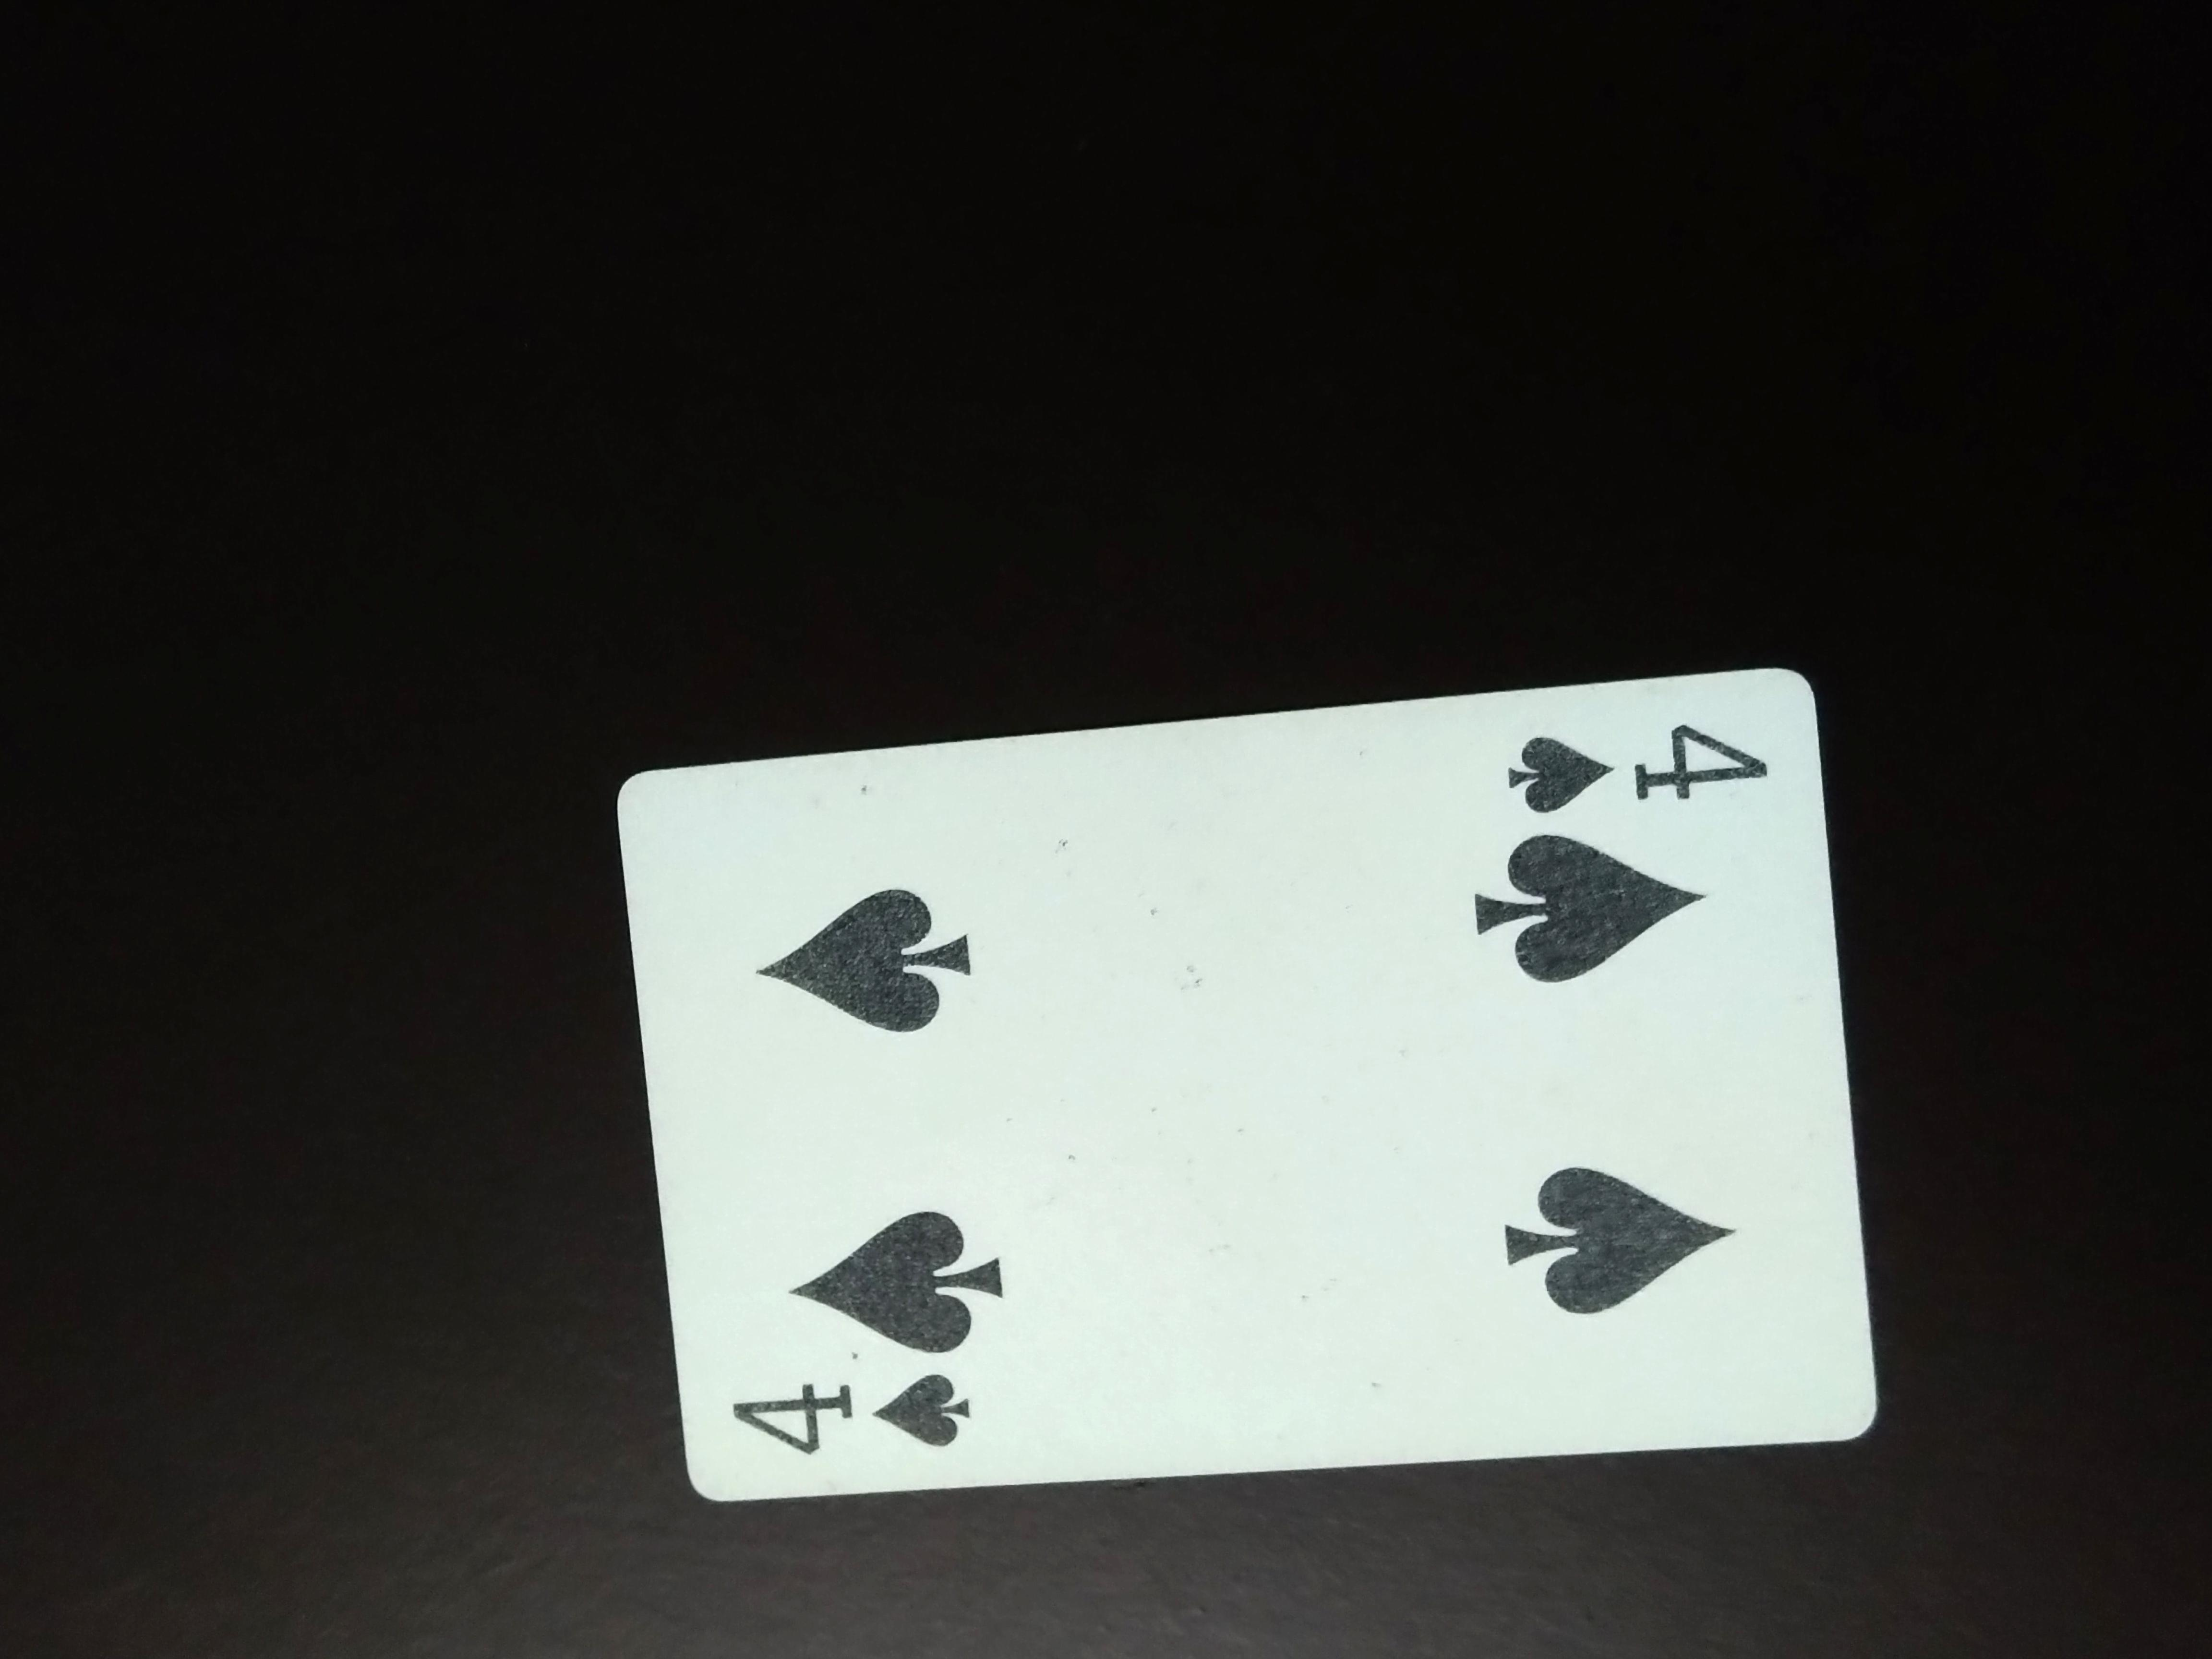4S: (707, 1356, 1024, 1462)
